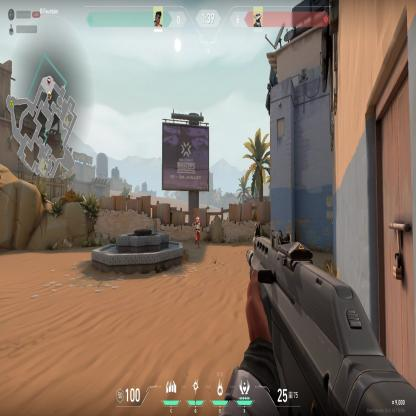enemy: (194, 216, 201, 249)
